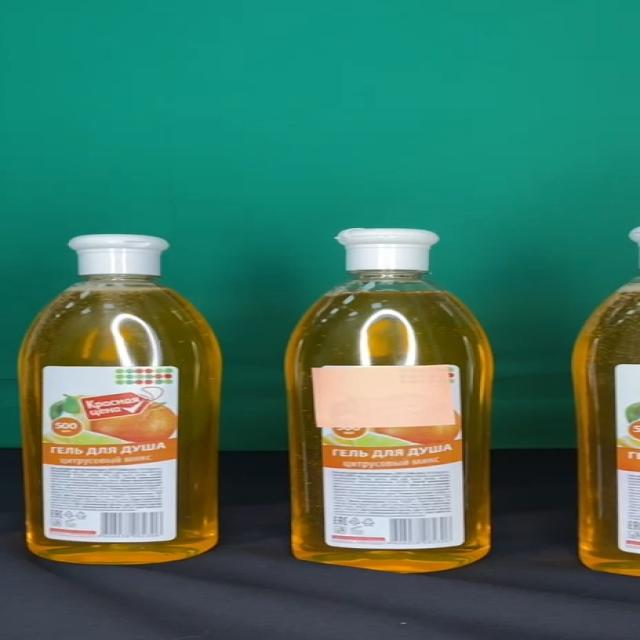Bottle: (283, 229, 493, 574), (17, 233, 222, 564)
Cap: (336, 230, 440, 272), (68, 234, 170, 276)
